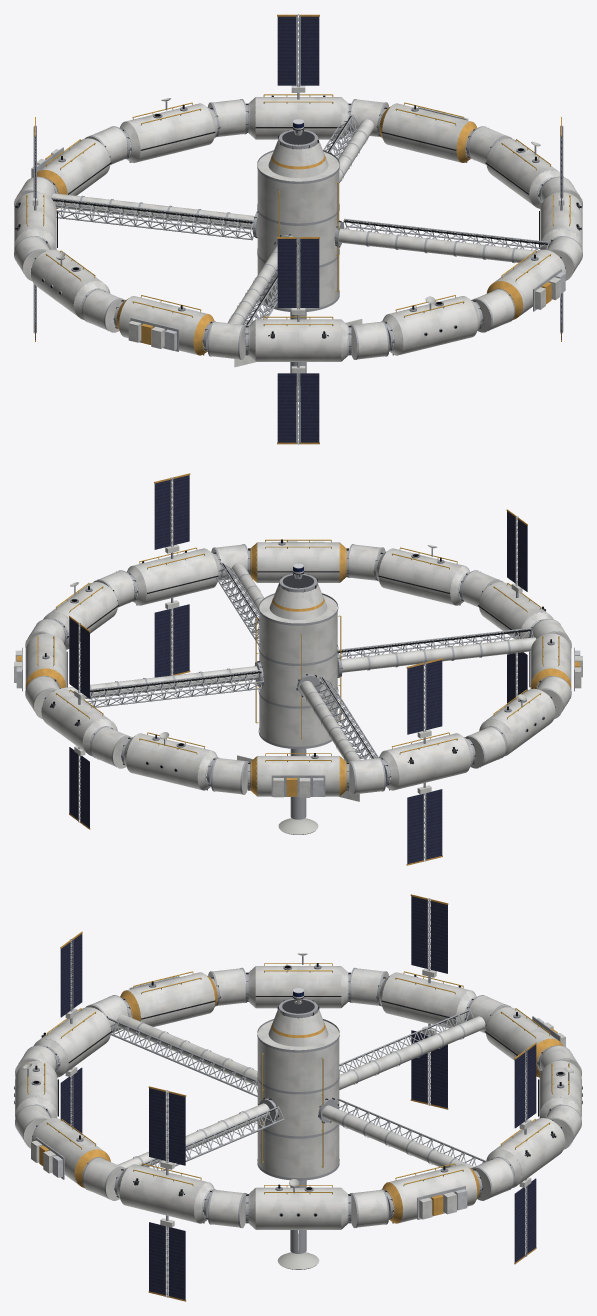
Rendered from real.glb.
The picture shows the model from 3 angles, top to bottom: view 1: azimuth 30°, elevation 25°; view 2: azimuth 150°, elevation 25°; view 3: azimuth 270°, elevation 25°; orthographic projection. The views are drawn at different scales.
Parts seen in each view (by area): view 1: bay-8, core, bay-2, frame-3, frame-1, frame-2, bay-7, frame-0, bay-9, bay-1, bay-3, bay-10 (+5 smaller); view 2: core, bay-5, bay-11, frame-2, frame-0, frame-1, bay-2, bay-8, frame-3, bay-4, bay-3, bay-9 (+5 smaller); view 3: core, bay-11, bay-5, frame-0, bay-2, bay-8, frame-3, frame-2, frame-1, bay-0, bay-1, bay-6 (+5 smaller).
Boxes of the visible parts, left/top/right/bottom form: bay-8: left=245, top=236, right=351, bottom=444; core: left=234, top=129, right=362, bottom=401; bay-2: left=245, top=14, right=351, bottom=139; frame-3: left=338, top=176, right=582, bottom=332; frame-1: left=14, top=126, right=254, bottom=280; frame-2: left=81, top=241, right=389, bottom=359; bay-7: left=113, top=295, right=214, bottom=355; frame-0: left=208, top=99, right=512, bottom=182; bay-9: left=382, top=295, right=483, bottom=355; bay-1: left=376, top=102, right=477, bottom=162; bay-3: left=119, top=98, right=220, bottom=162; bay-10: left=486, top=249, right=565, bottom=319; core: left=237, top=574, right=359, bottom=834; bay-5: left=379, top=658, right=475, bottom=865; bay-11: left=127, top=473, right=222, bottom=677; frame-2: left=338, top=570, right=571, bottom=719; frame-0: left=25, top=619, right=264, bottom=768; frame-1: left=211, top=676, right=506, bottom=794; bay-2: left=41, top=616, right=117, bottom=829; bay-8: left=478, top=509, right=553, bottom=704; frame-3: left=93, top=544, right=385, bottom=645; bay-4: left=247, top=753, right=349, bottom=797; bay-3: left=121, top=732, right=217, bottom=790; bay-9: left=373, top=545, right=469, bottom=605; core: left=257, top=998, right=339, bottom=1269; bay-11: left=114, top=1086, right=214, bottom=1301; bay-5: left=376, top=894, right=476, bottom=1109; frame-0: left=322, top=1098, right=581, bottom=1228; bay-2: left=486, top=1042, right=565, bottom=1264; bay-8: left=33, top=931, right=112, bottom=1134; frame-3: left=15, top=1103, right=284, bottom=1228; frame-2: left=15, top=967, right=257, bottom=1096; frame-1: left=339, top=967, right=581, bottom=1089; bay-0: left=245, top=1179, right=351, bottom=1229; bay-1: left=382, top=1163, right=482, bottom=1223; bay-6: left=245, top=953, right=351, bottom=1008.
Bounding box in the file's own units: 1.92 × 1.01 × 1.92.
Materials: 19 (6 with a texture image).
